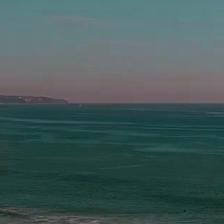surfer: (184, 210, 186, 212)
